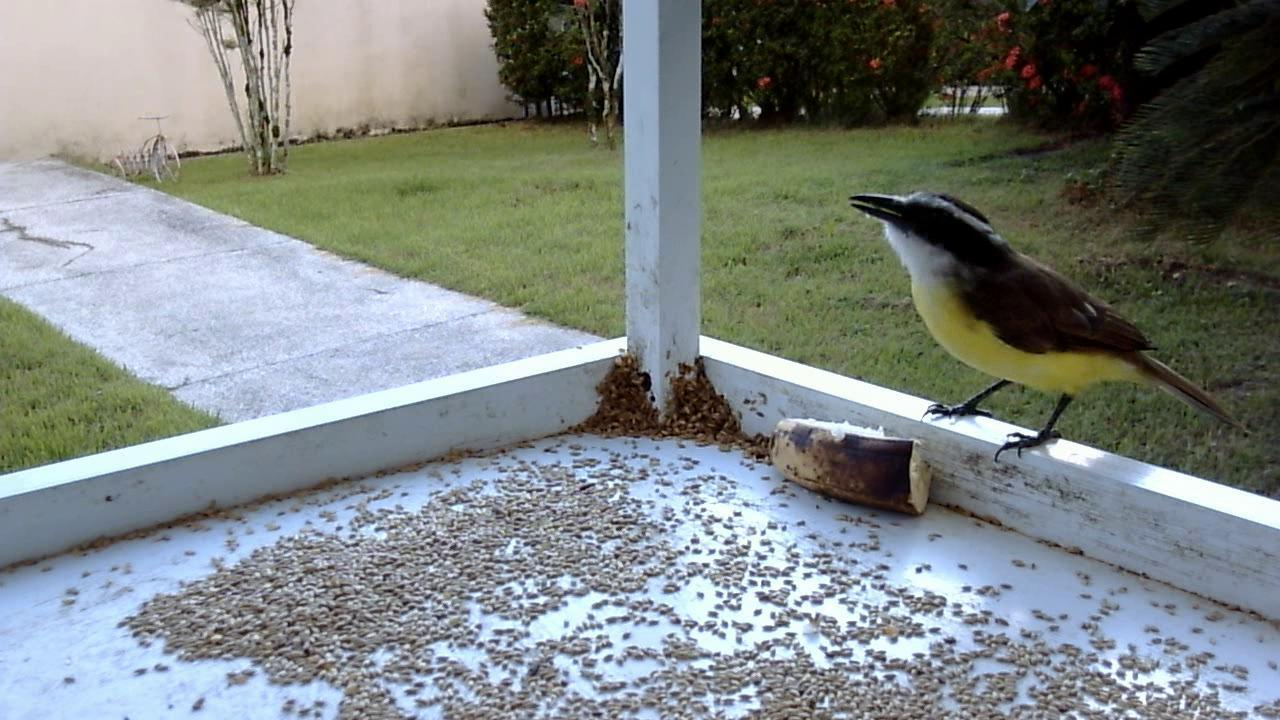bem_te_vi: (830, 176, 1253, 482)
